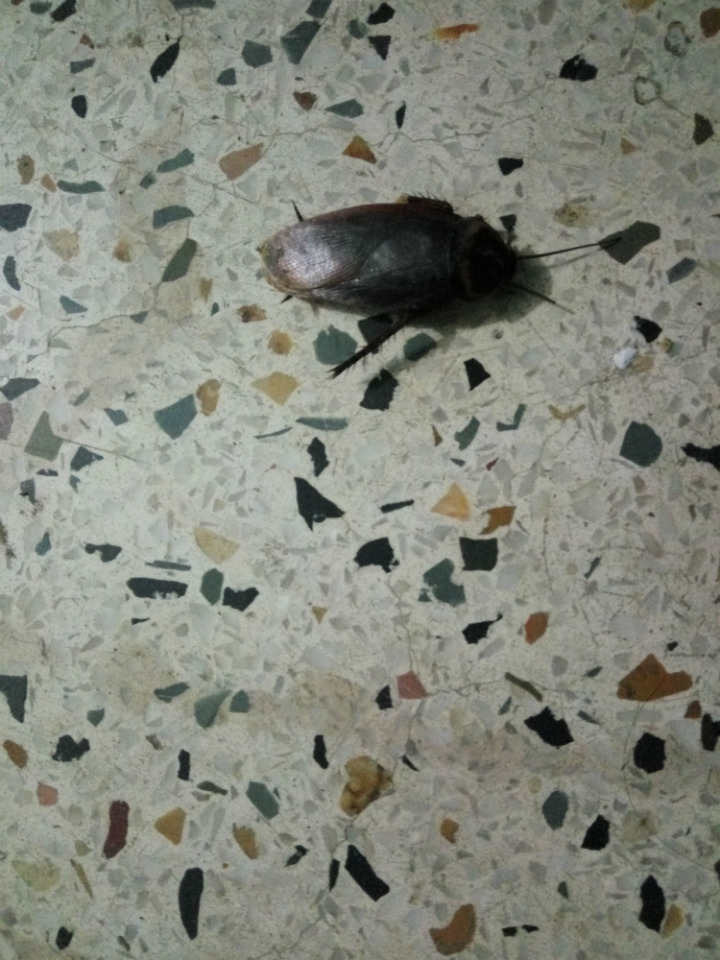cockroach: (235, 130, 663, 431)
